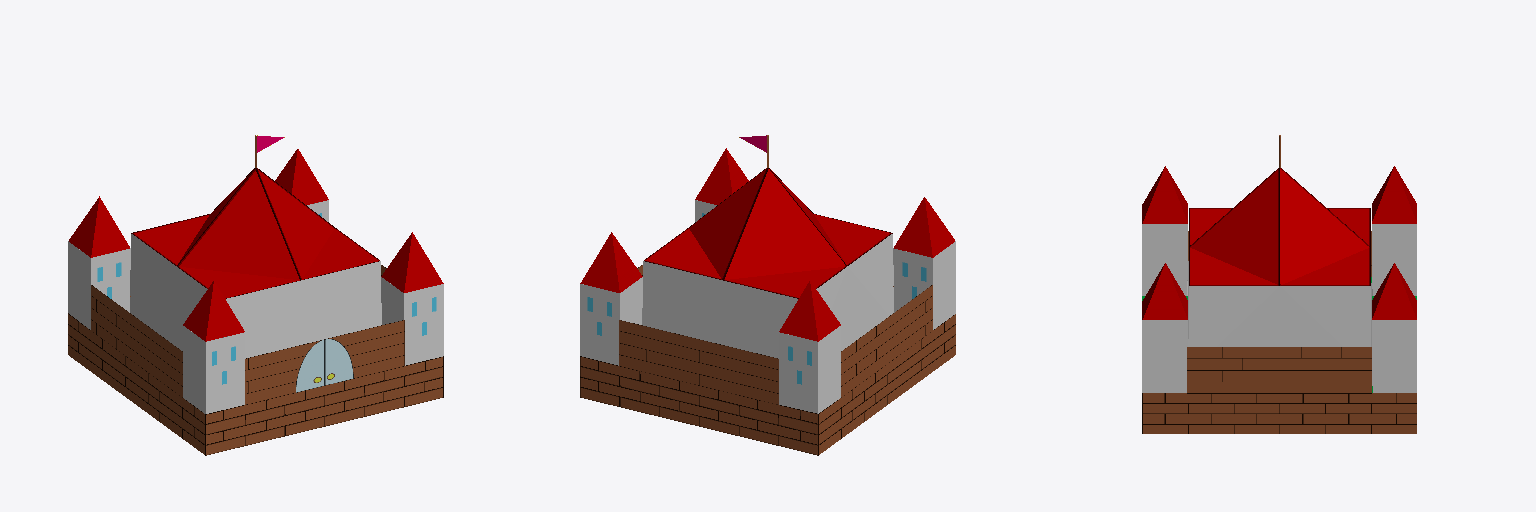
The picture shows the model from 3 angles: view 1: azimuth 30°, elevation 25°; view 2: azimuth 150°, elevation 25°; view 3: azimuth 270°, elevation 25°; orthographic projection.
Visible parts, largest first — view 1: group3 pCube1, group3 pPlane1, group3 pasted__pasted__pPlane1 pasted__group1 group2; view 2: group3 pCube1, group3 pasted__pPlane1 group, group3 pasted__pasted__pPlane1 pasted__group1 group2; view 3: group3 pCube1, pasted__pPlane1 group1 group3.
Part boxes in pixels (bbox=[...]): group3 pCube1: bbox=[68, 149, 443, 455]; group3 pPlane1: bbox=[245, 320, 404, 404]; group3 pasted__pasted__pPlane1 pasted__group1 group2: bbox=[91, 285, 182, 397]; group3 pCube1: bbox=[580, 148, 955, 455]; group3 pasted__pPlane1 group: bbox=[619, 320, 778, 404]; group3 pasted__pasted__pPlane1 pasted__group1 group2: bbox=[841, 285, 932, 397]; group3 pCube1: bbox=[1142, 166, 1416, 433]; pasted__pPlane1 group1 group3: bbox=[1187, 347, 1371, 393].
Size of the model in its own units: 6.02 by 5.81 by 6.02.
1 materials, 1 textured.